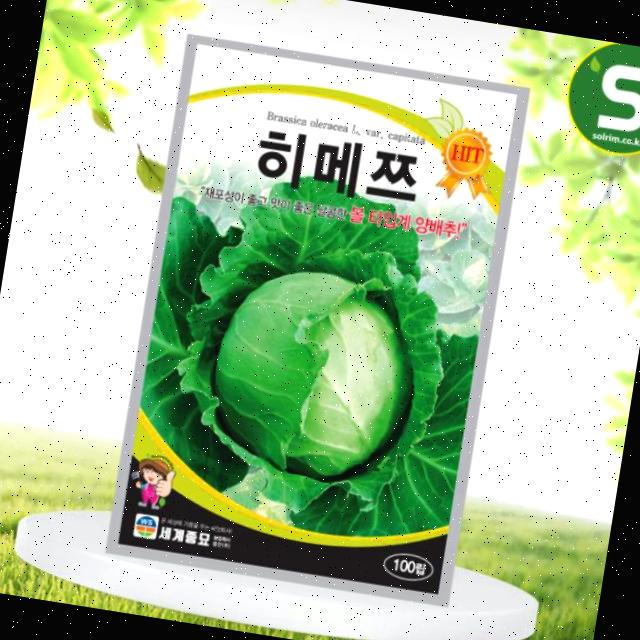cabbage: (129, 194, 502, 552)
